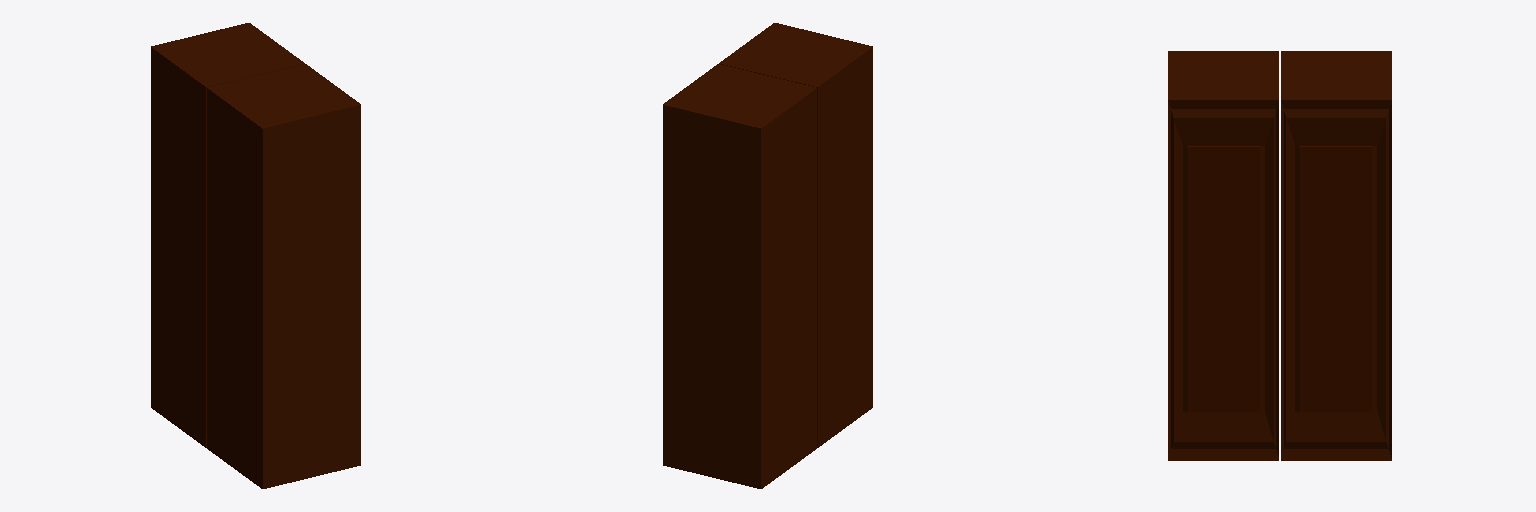
File: Pantry.obj
3 views of the same model, side by side, from view 1: azimuth 30°, elevation 25°; view 2: azimuth 150°, elevation 25°; view 3: azimuth 270°, elevation 25° (orthographic).
Parts seen in each view (by area): view 1: Cube.002_Cube.008; view 2: Cube.002_Cube.008; view 3: Cube.002_Cube.008.
Part boxes in pixels (bbox=[...]): Cube.002_Cube.008: bbox=[151, 23, 360, 488]; Cube.002_Cube.008: bbox=[663, 23, 872, 488]; Cube.002_Cube.008: bbox=[1168, 51, 1391, 460].
Size of the model in its own units: 1.57 by 5.47 by 3.08.